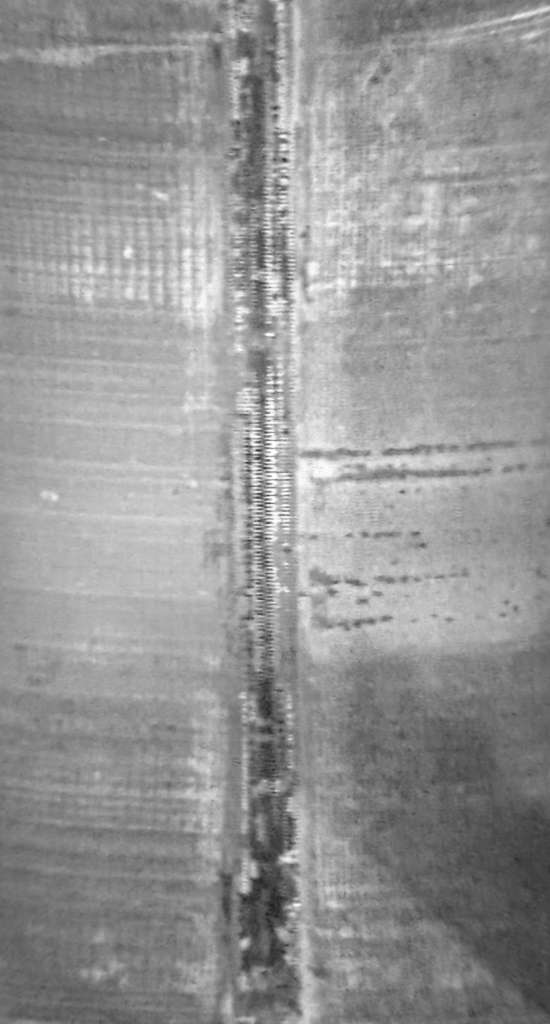splice: (204, 1, 319, 1021)
